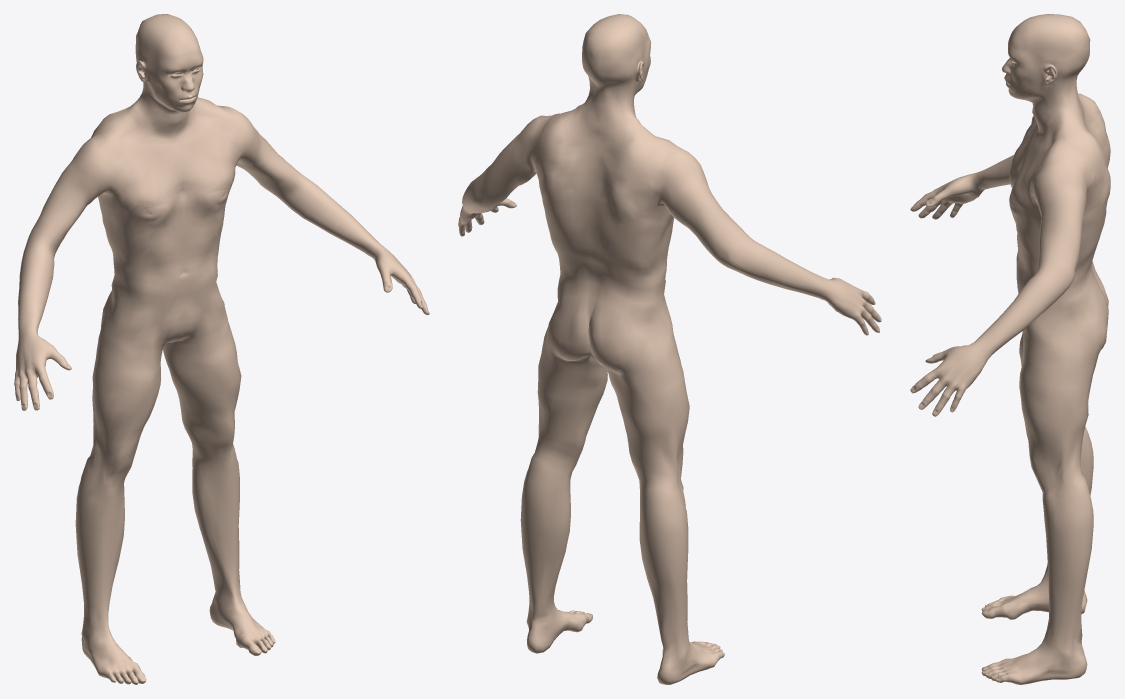
Rendered from gtd3d_body_template.glb.
3 renders of one model, left to right at view 1: azimuth 30°, elevation 25°; view 2: azimuth 150°, elevation 25°; view 3: azimuth 270°, elevation 25°, orthographic.
Parts seen in each view (by area): view 1: Human; view 2: Human; view 3: Human.
Boxes of the visible parts, x1,y1,x2,y2 form: Human: [14, 14, 429, 684]; Human: [458, 14, 881, 684]; Human: [910, 14, 1110, 684].
Size of the model in its own units: 1.19 by 1.76 by 0.5064.
